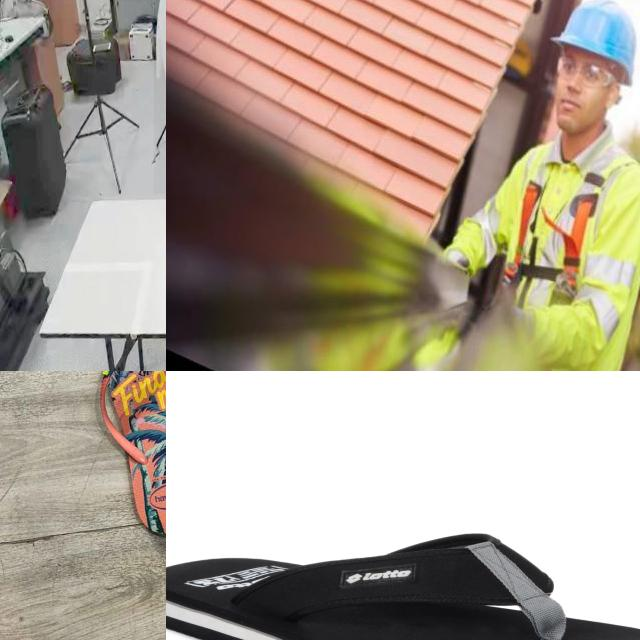Harness: (507, 182, 600, 296)
Sandals: (166, 530, 640, 640), (74, 371, 166, 568)
